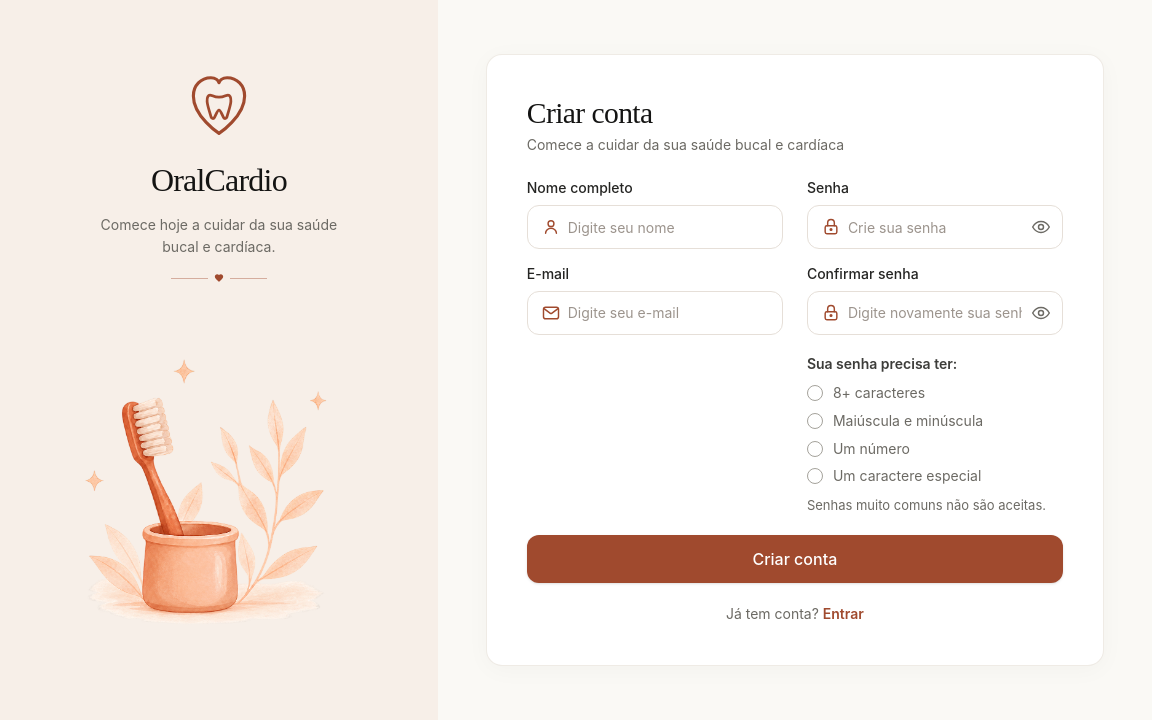
Test: SignUpPage › keeps the confirmation state in the auth layout
Type "Ana Silva" into the field labelled "Nome completo".
click(655, 227); type("Ana Silva")  # box [527,205,783,249]
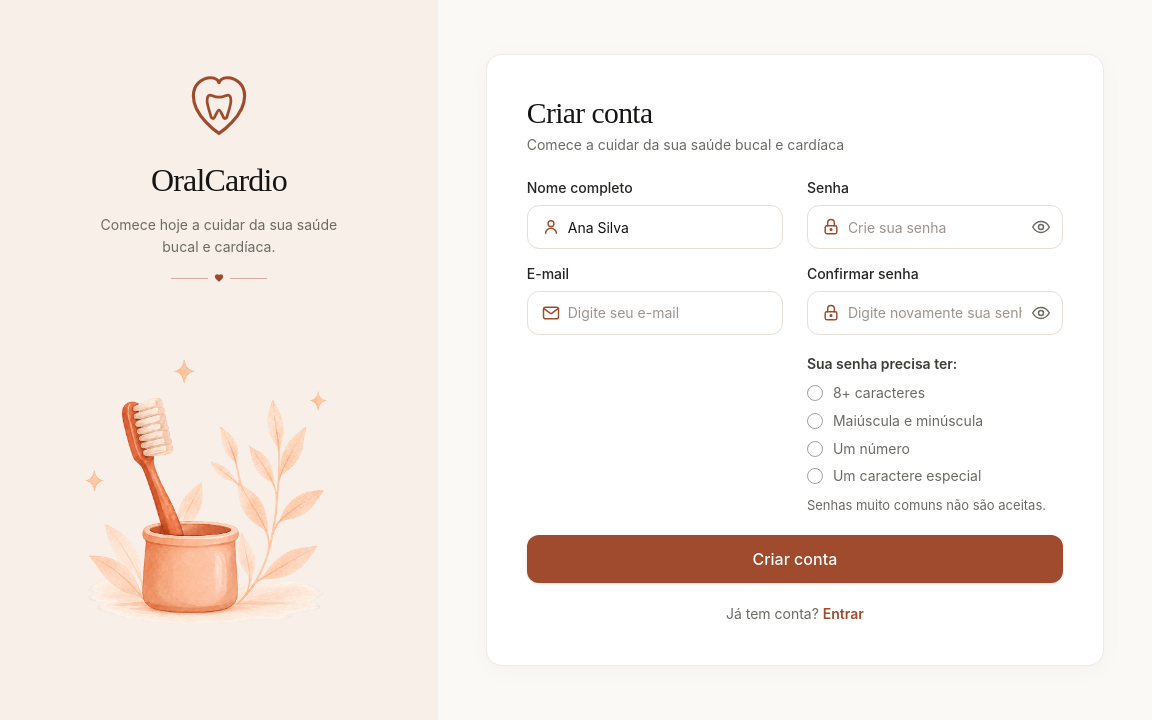
Type "ana@example.com" into the field labelled "E-mail".
click(655, 313); type("ana@example.com")  # box [527,291,783,335]
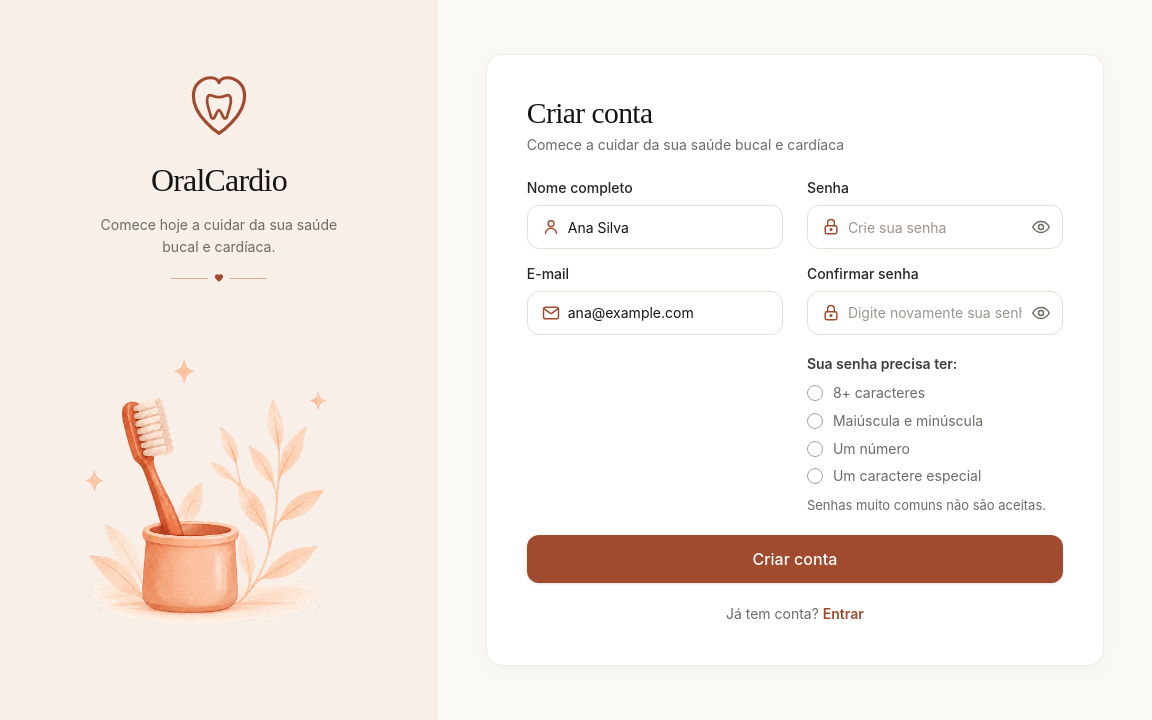
Type "MinhaSenha!2026" into the password field labelled "Senha".
click(935, 227); type("MinhaSenha!2026")  # box [807,205,1063,249]
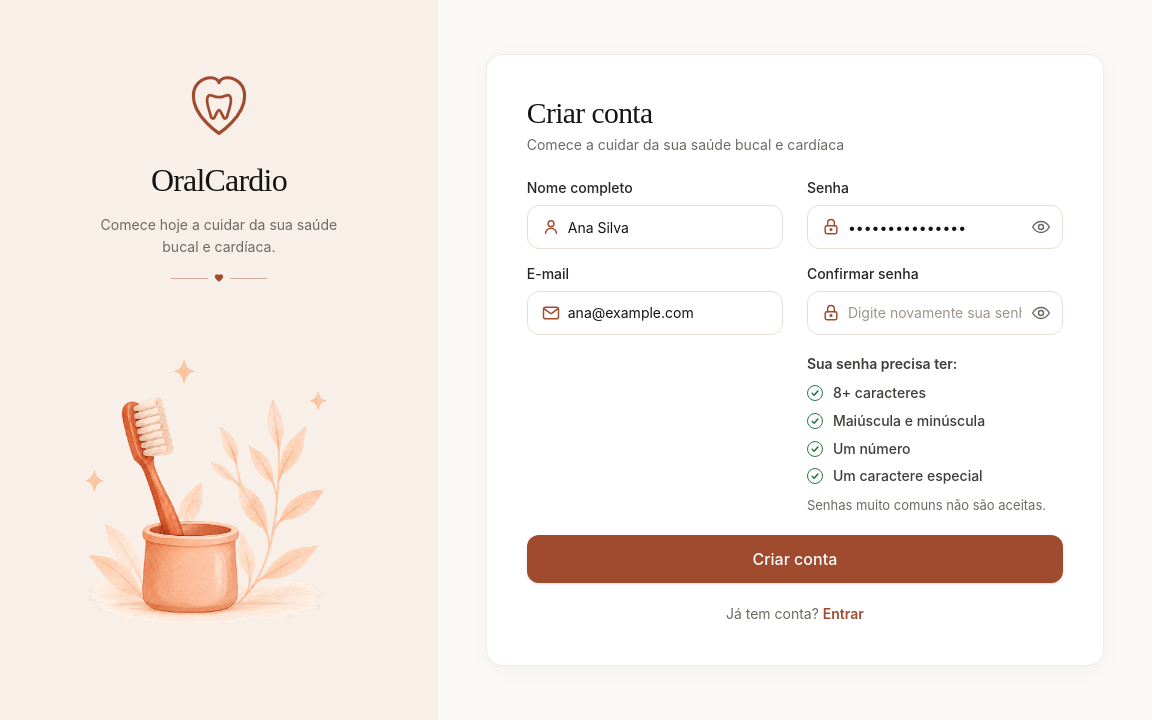
Type "MinhaSenha!2026" into the password field labelled "Confirmar senha".
click(935, 313); type("MinhaSenha!2026")  # box [807,291,1063,335]
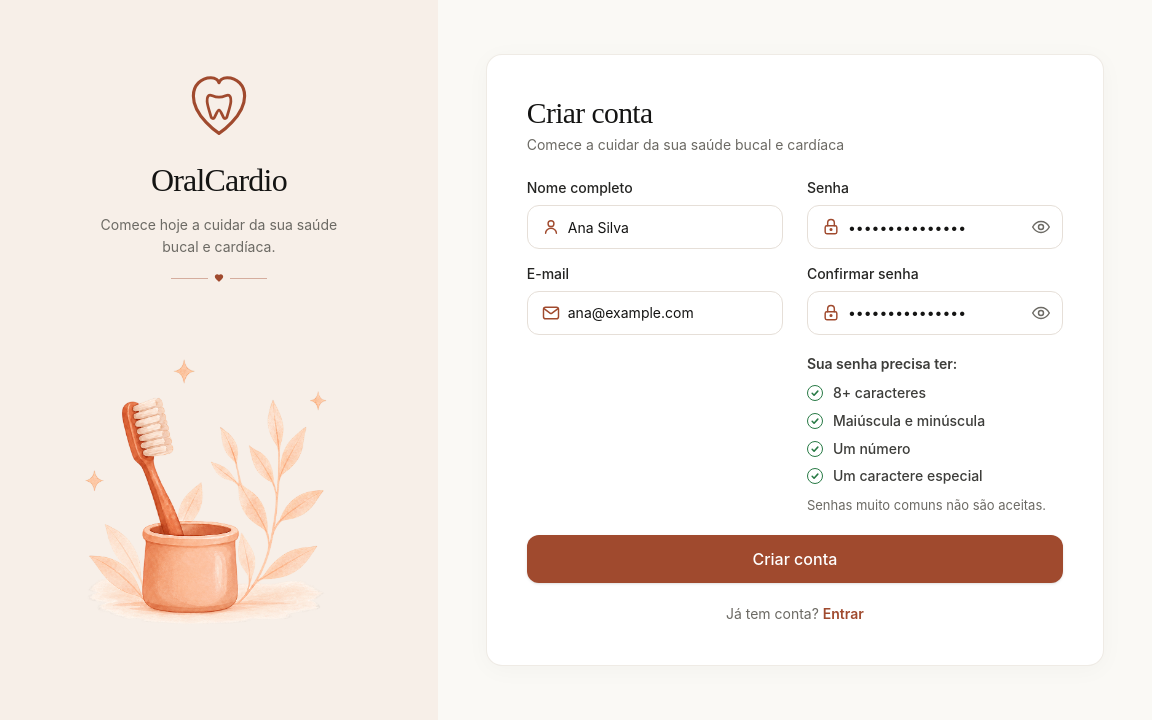
Click the button "Criar conta".
click(795, 559)  # box [527,535,1063,583]
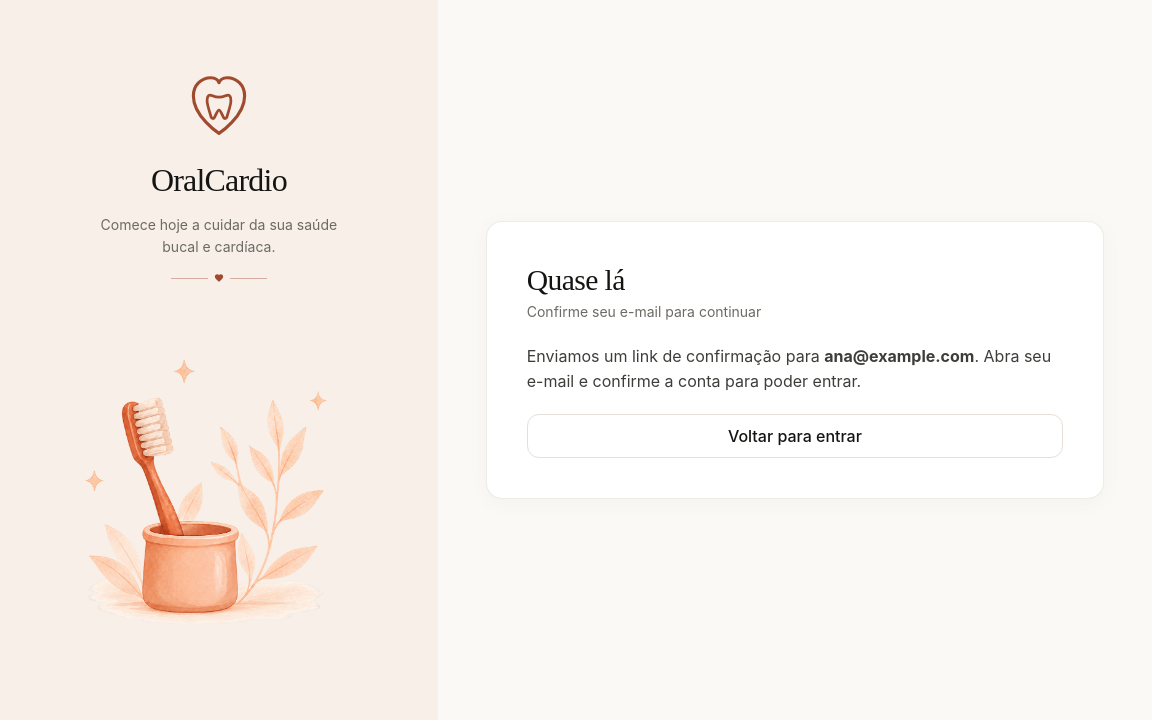
Now the heading "Quase lá" is shown, box [527,264,625,296]
